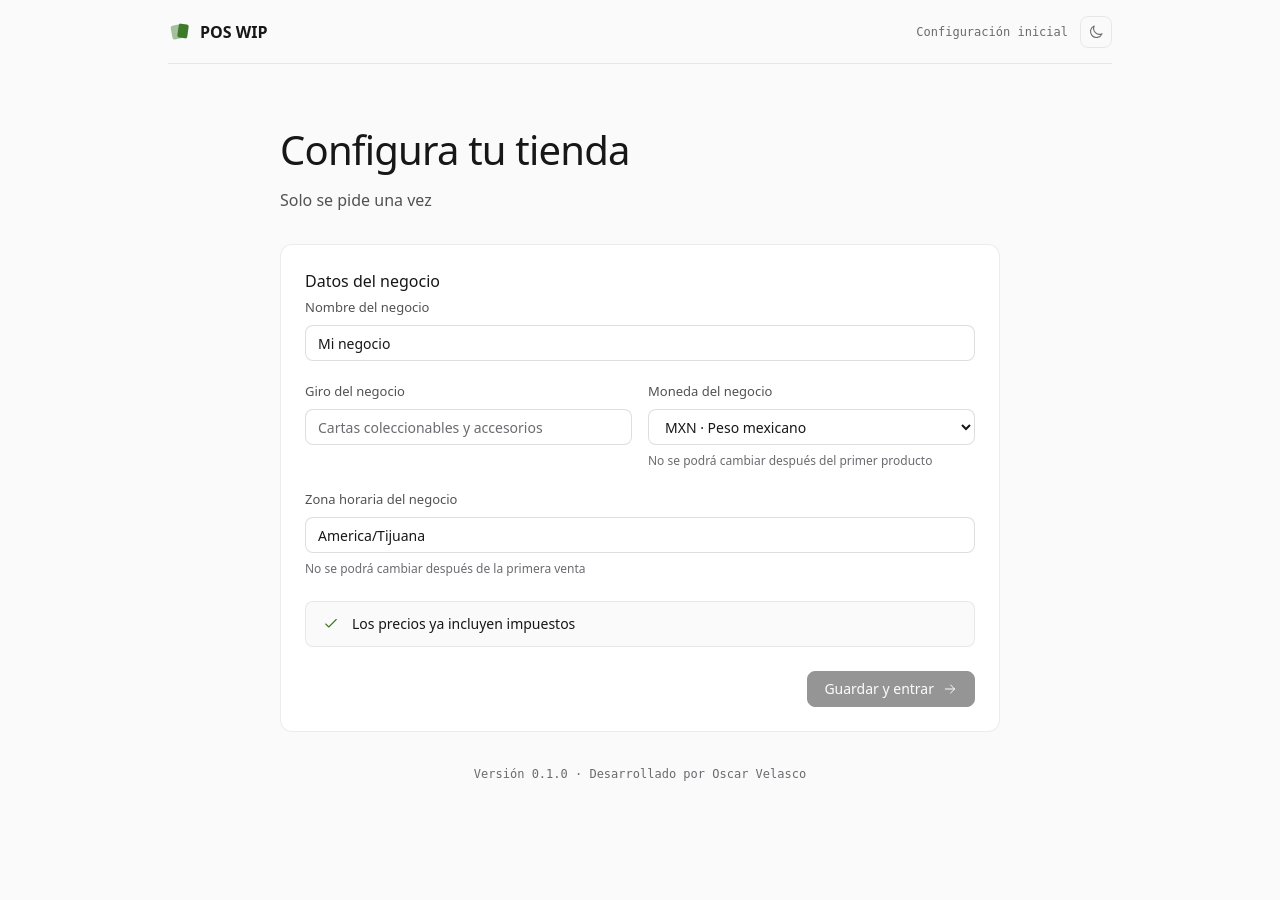
flujo del POS (puente Tauri simulado) › no entra al panel si falla el guardado inicial
Type "Regalos" into the field labelled "Giro del negocio".
click(468, 427); type("Regalos")  # box [305,409,632,445]
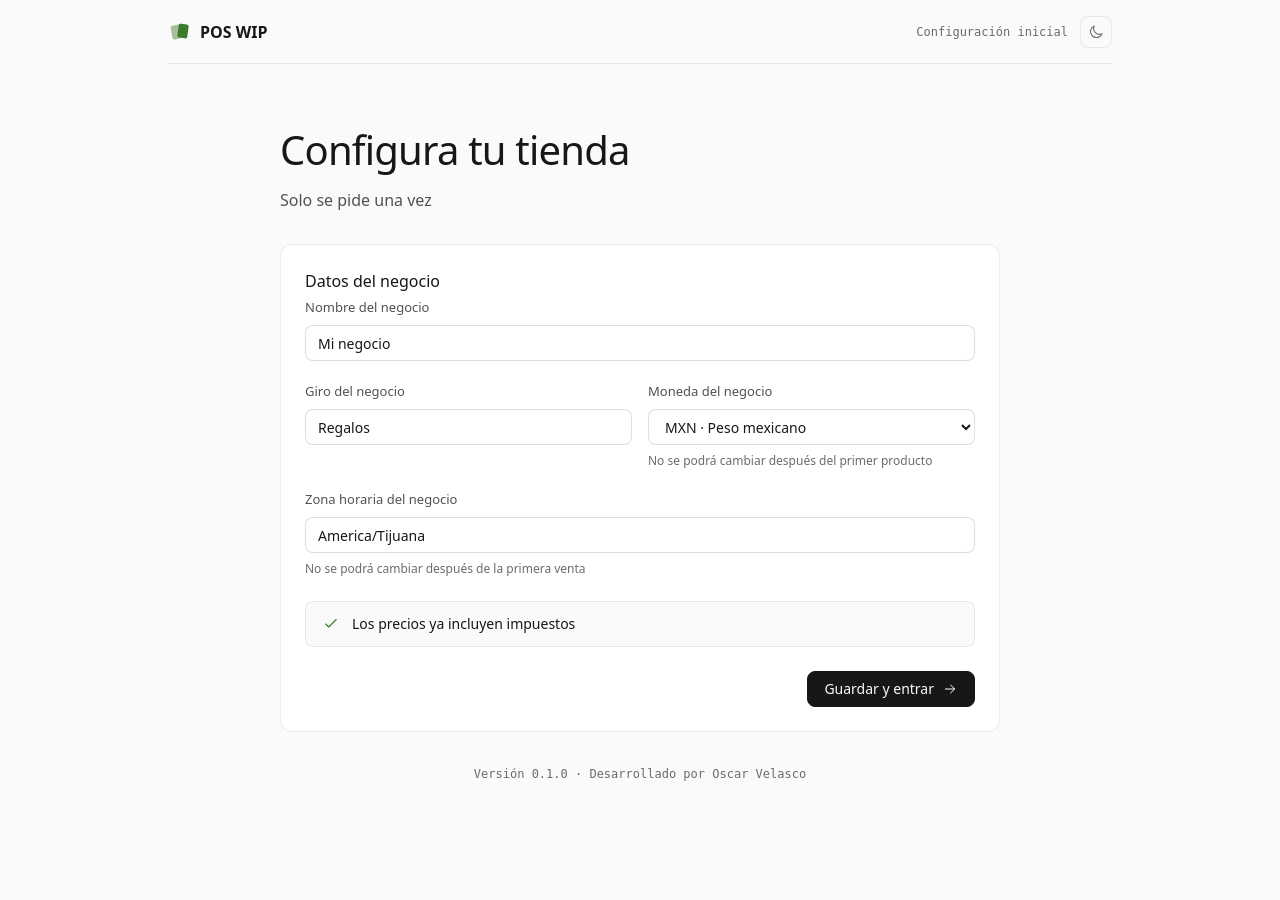
Click the button "Guardar y entrar".
click(891, 689)  # box [807,671,975,707]
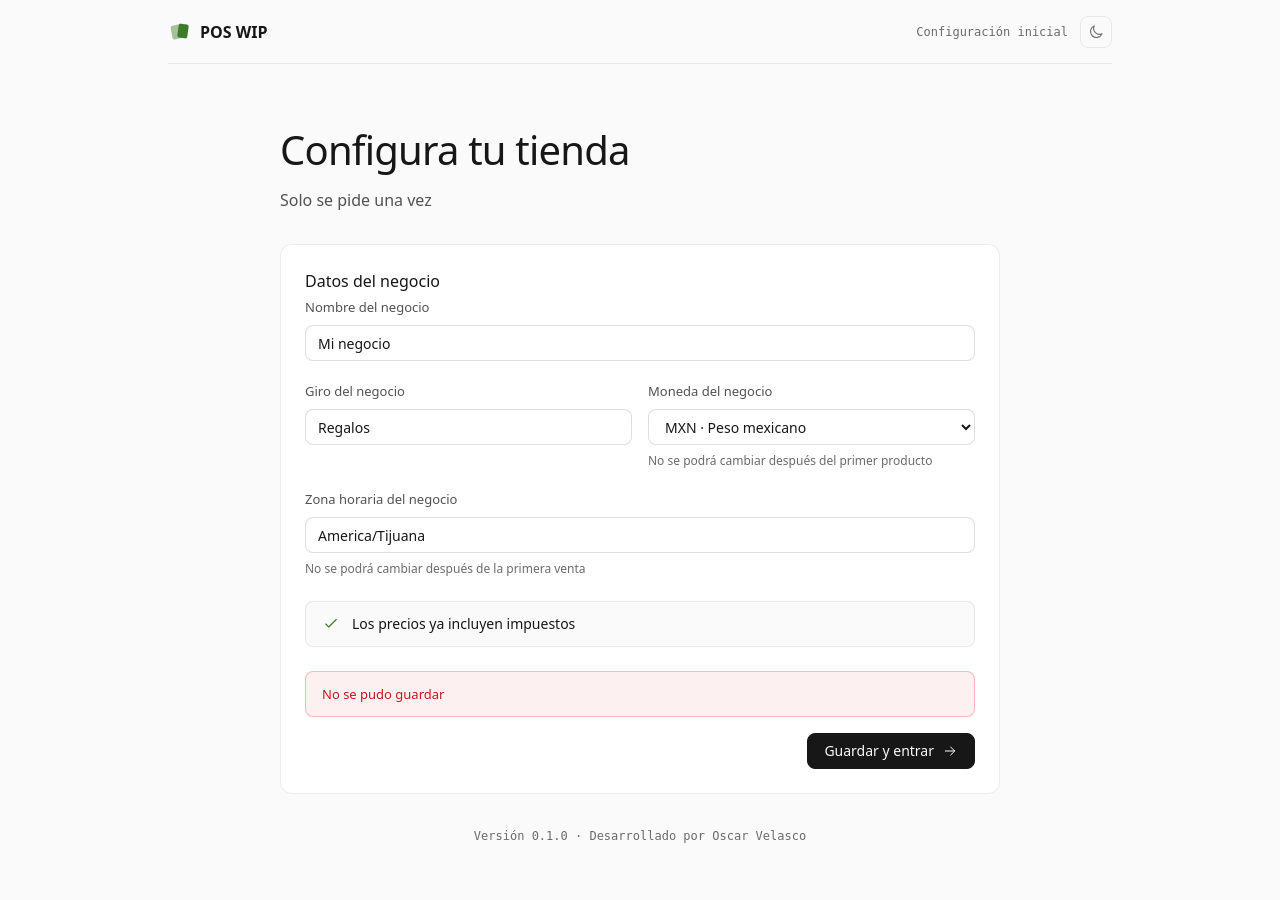
Now the message reads "No se pudo guardar", box [322,685,444,703]
